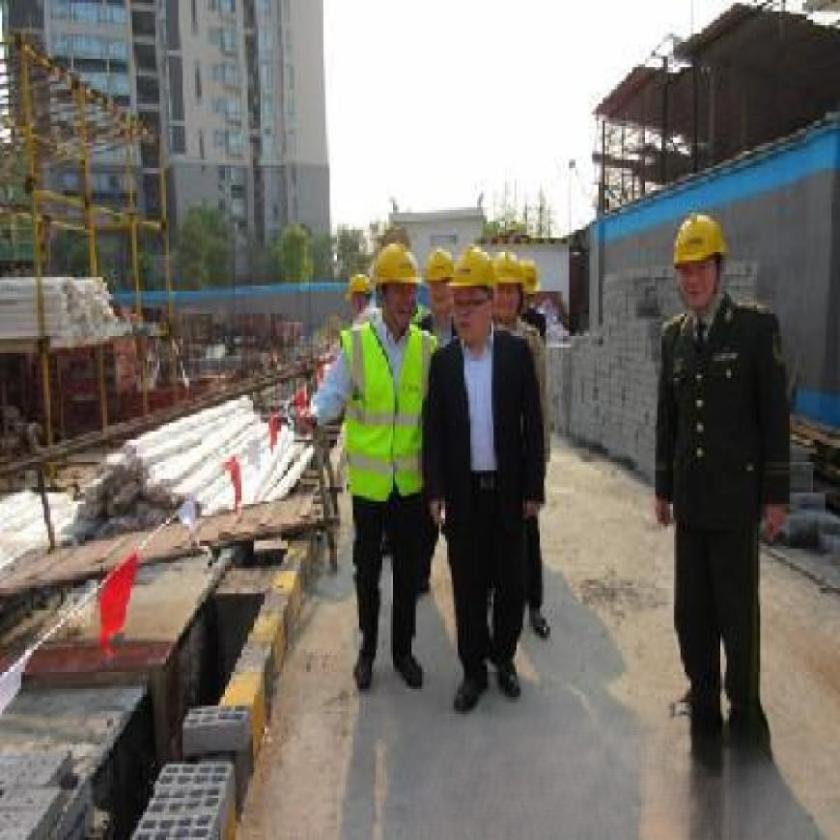Con_casco: (654, 178, 736, 312), (367, 222, 422, 349), (451, 250, 500, 358)
